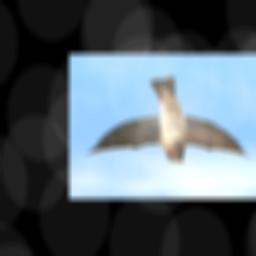Swallow: (85, 76, 256, 165)
